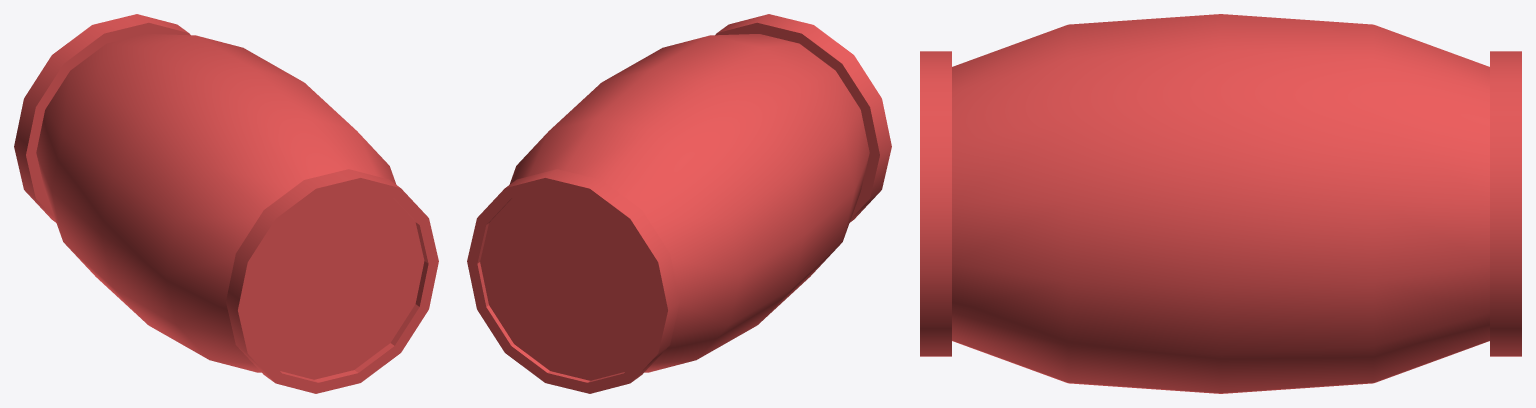
The model's file is SM_Tonneau_Simple.fbx.
3 views of the same model, side by side, from view 1: azimuth 30°, elevation 25°; view 2: azimuth 150°, elevation 25°; view 3: azimuth 270°, elevation 25° (orthographic). The views are drawn at different scales.
Visible parts, largest first — view 1: Cylinder001, Object007; view 2: Cylinder001, Object007; view 3: Cylinder001, Object007.
Part boxes in pixels (x1,y1,x2,y2): Cylinder001: [36, 34, 396, 372]; Object007: [14, 14, 438, 393]; Cylinder001: [509, 34, 869, 372]; Object007: [467, 14, 891, 393]; Cylinder001: [952, 14, 1489, 393]; Object007: [920, 51, 1521, 356].
Bounding box in the file's own units: 183 × 179 × 284.
